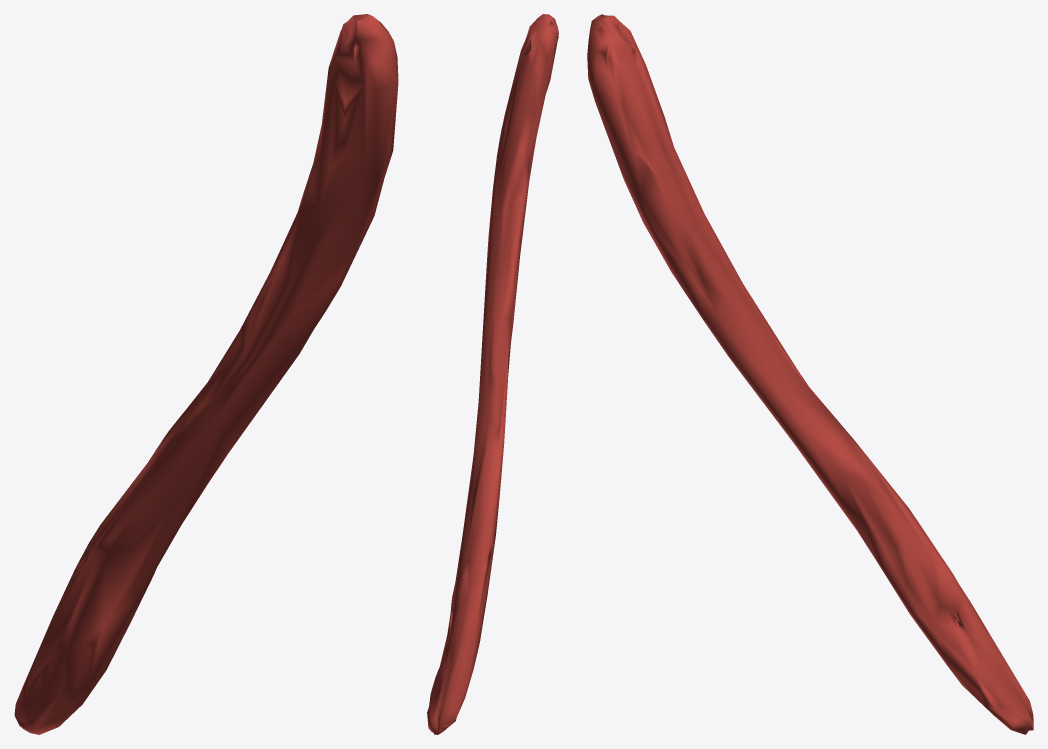
The model's file is musculos-ary-epiglottic-part-of-oblique-arytenoid-muscle-l.glb.
3 views of the same model, side by side, from view 1: azimuth 30°, elevation 25°; view 2: azimuth 150°, elevation 25°; view 3: azimuth 270°, elevation 25° (orthographic). The views are drawn at different scales.
Visible parts, largest first — view 1: Ary-epiglottic part of oblique arytenoid muscle.l; view 2: Ary-epiglottic part of oblique arytenoid muscle.l; view 3: Ary-epiglottic part of oblique arytenoid muscle.l.
Boxes of the visible parts, x1,y1,x2,y2 form: Ary-epiglottic part of oblique arytenoid muscle.l: (14,14,398,734); Ary-epiglottic part of oblique arytenoid muscle.l: (427,14,558,734); Ary-epiglottic part of oblique arytenoid muscle.l: (587,14,1033,734).
Size of the model in its own units: 0.00423 by 0.0234 by 0.0126.
